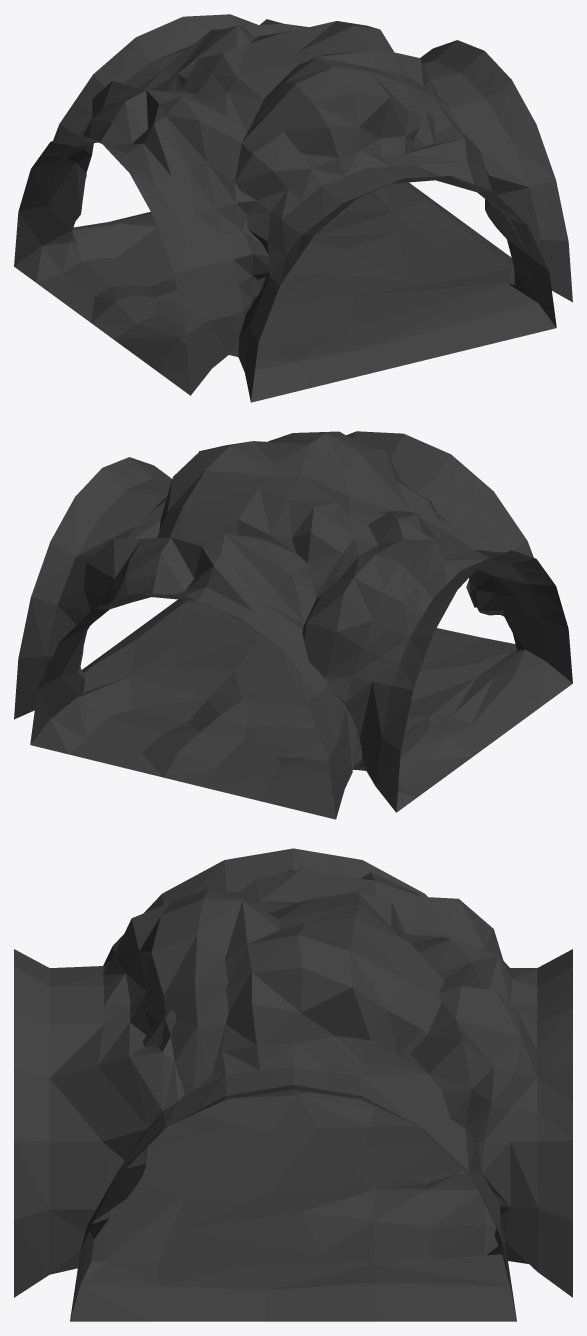
Rendered from Cave_5A_Intersection.fbx.
The picture shows the model from 3 angles, top to bottom: view 1: azimuth 30°, elevation 25°; view 2: azimuth 150°, elevation 25°; view 3: azimuth 270°, elevation 25°; orthographic projection. The views are drawn at different scales.
Visible parts, largest first — view 1: polySurface1; view 2: polySurface1; view 3: polySurface1.
Part boxes in pixels (x1,y1,x2,y2): polySurface1: (14,14,572,402); polySurface1: (14,431,572,819); polySurface1: (14,848,572,1321).
Bounding box in the file's own units: 10.32 × 6.25 × 10.32.
